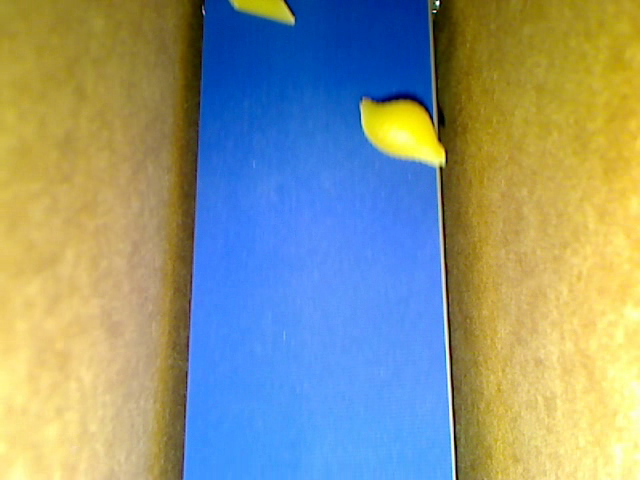penne: (228, 1, 296, 27)
shell: (359, 95, 447, 169)
